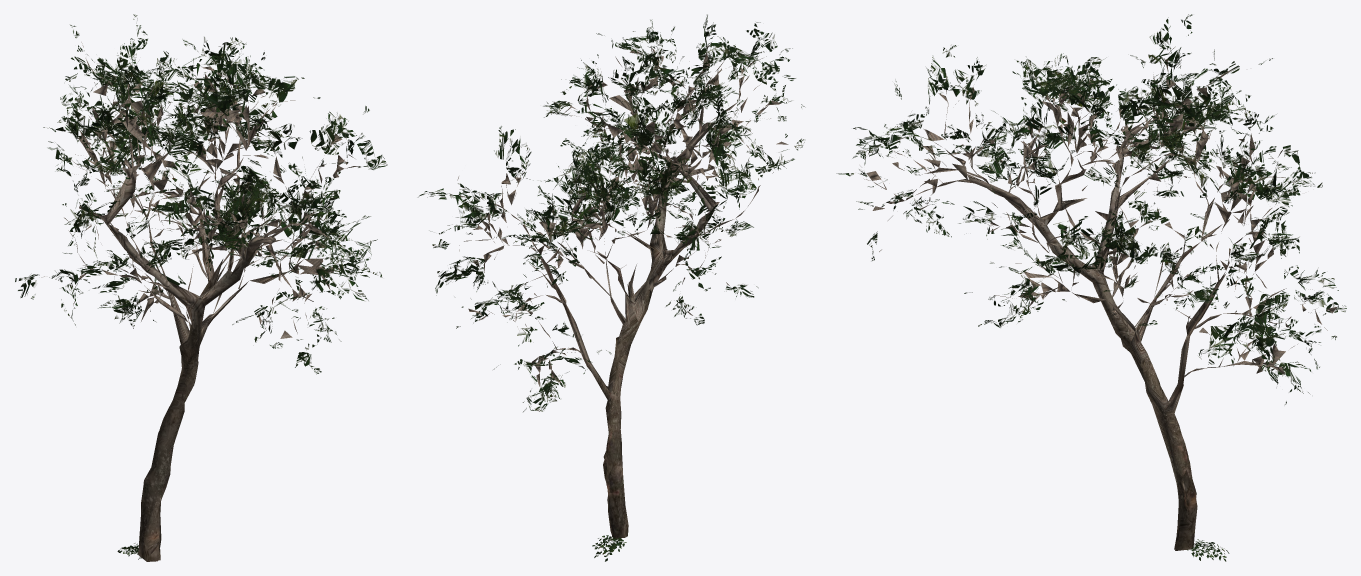
Rendered from distant.glb.
The picture shows the model from 3 angles, left to right: view 1: azimuth 30°, elevation 25°; view 2: azimuth 150°, elevation 25°; view 3: azimuth 270°, elevation 25°; orthographic projection. The views are drawn at different scales.
Visible parts, largest first — view 1: tree_small_02_LOD0, tree_small_02_trunk; view 2: tree_small_02_LOD0, tree_small_02_trunk; view 3: tree_small_02_LOD0, tree_small_02_trunk.
Boxes of the visible parts, x1,y1,x2,y2 form: tree_small_02_LOD0: [15, 14, 387, 561]; tree_small_02_trunk: [101, 158, 276, 561]; tree_small_02_LOD0: [418, 14, 804, 537]; tree_small_02_trunk: [539, 115, 719, 538]; tree_small_02_LOD0: [836, 14, 1346, 550]; tree_small_02_trunk: [952, 127, 1226, 549].
Bounding box in the file's own units: 2.87 × 4.62 × 4.2.
3 materials, 3 textured.
